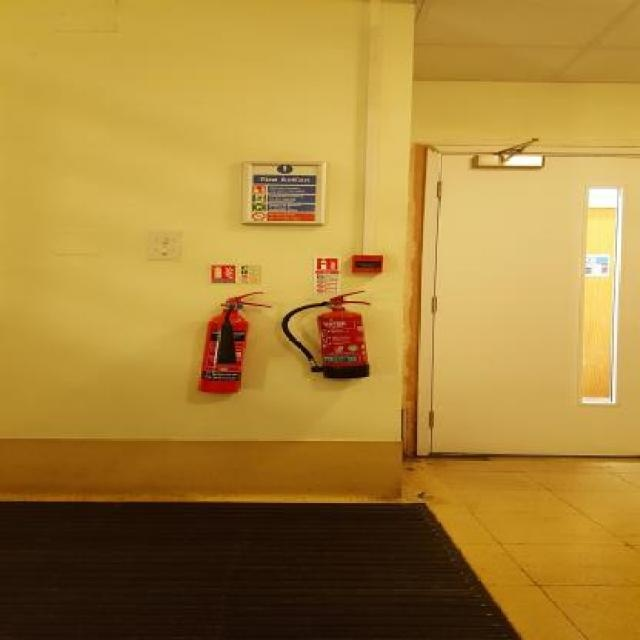fire extinguisher: (278, 289, 370, 374), (197, 293, 269, 393)
